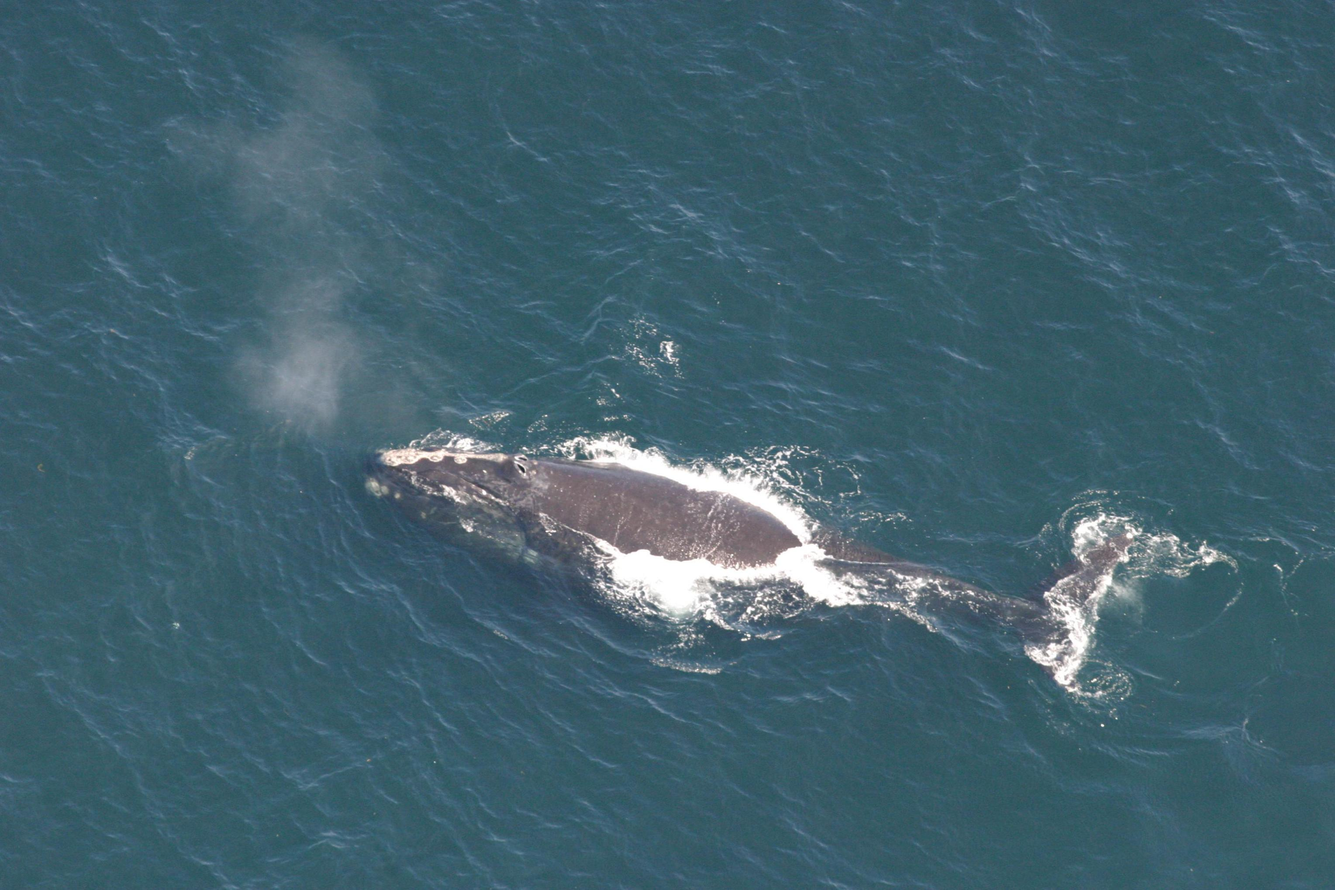whale: (347, 425, 1160, 725)
